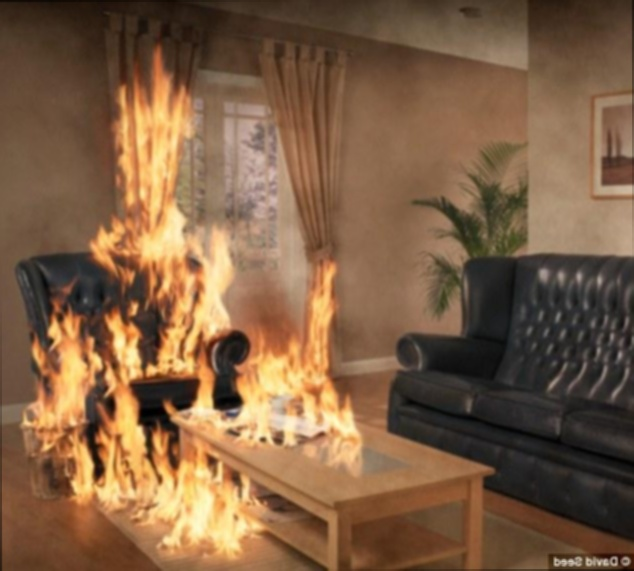fire: (11, 39, 362, 566)
